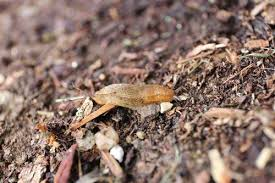slug: (89, 83, 177, 110)
